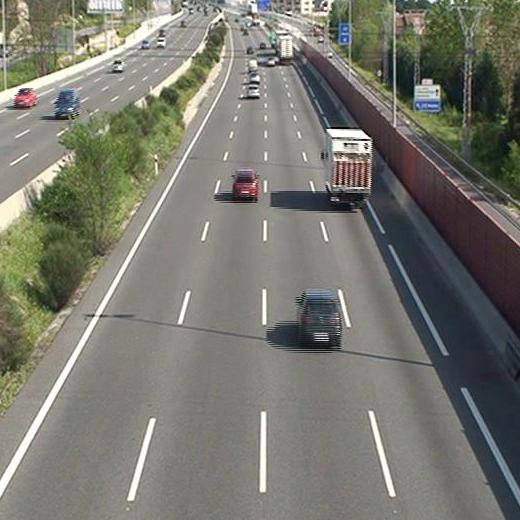car: (297, 290, 341, 344), (232, 169, 258, 198), (247, 85, 259, 98), (249, 71, 260, 83), (266, 56, 274, 66)
small-truck: (323, 128, 371, 206)
truck: (279, 35, 292, 66)
van: (248, 58, 258, 72)
